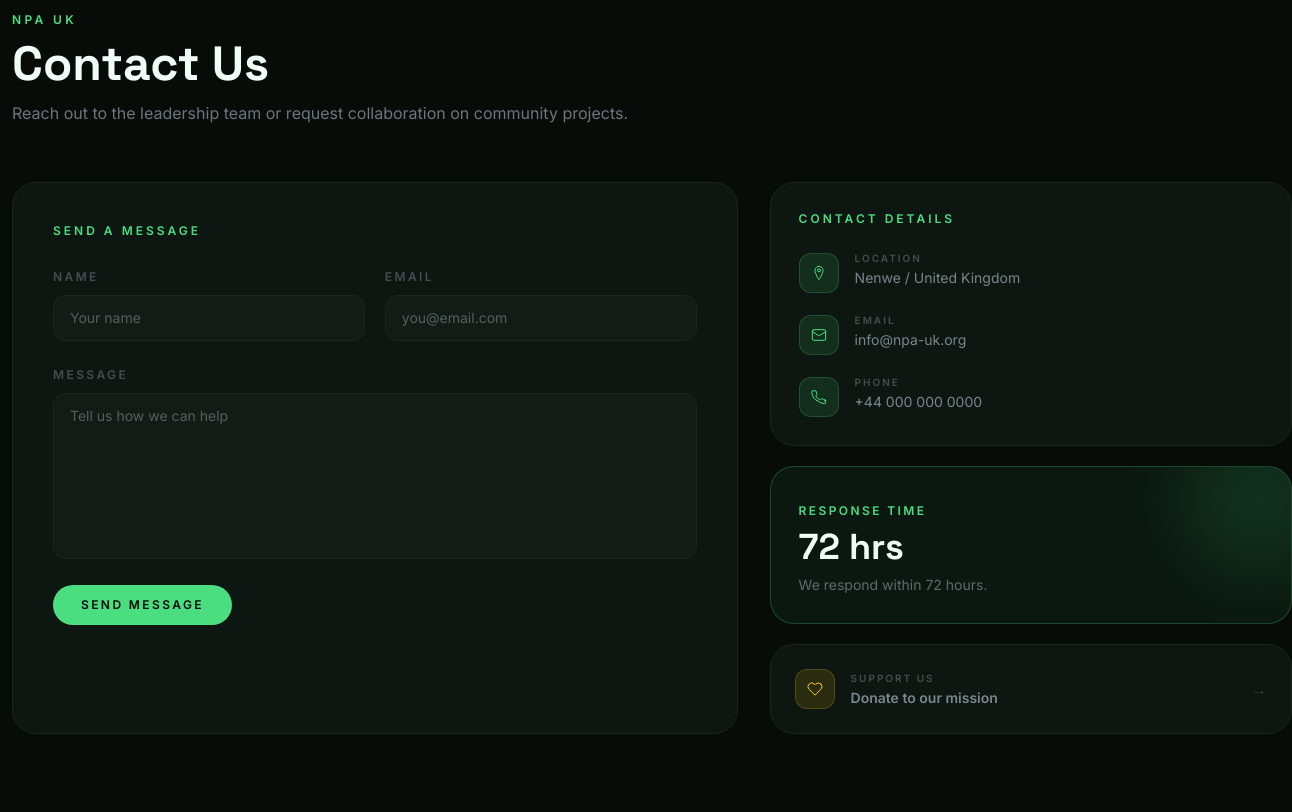
Contact form › shows success message after successful submission
This screenshot has width=1292, height=812.
Type "Chidi Okafor" into the field with placeholder "Your name". click: (209, 318)
box: x1=53 y1=295 x2=365 y2=341
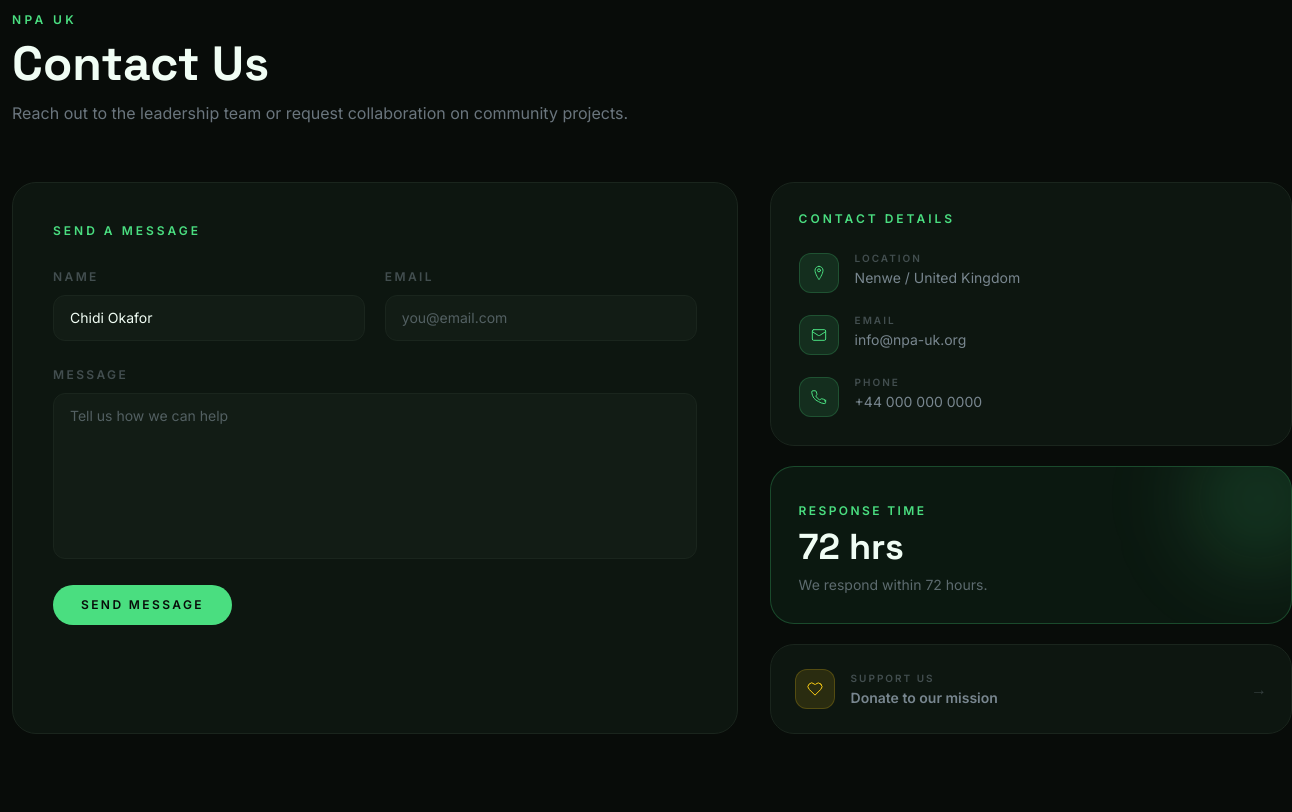
Type "chidi@example.com" into the field with placeholder "you@email.com". click: (541, 318)
box: x1=385 y1=295 x2=697 y2=341
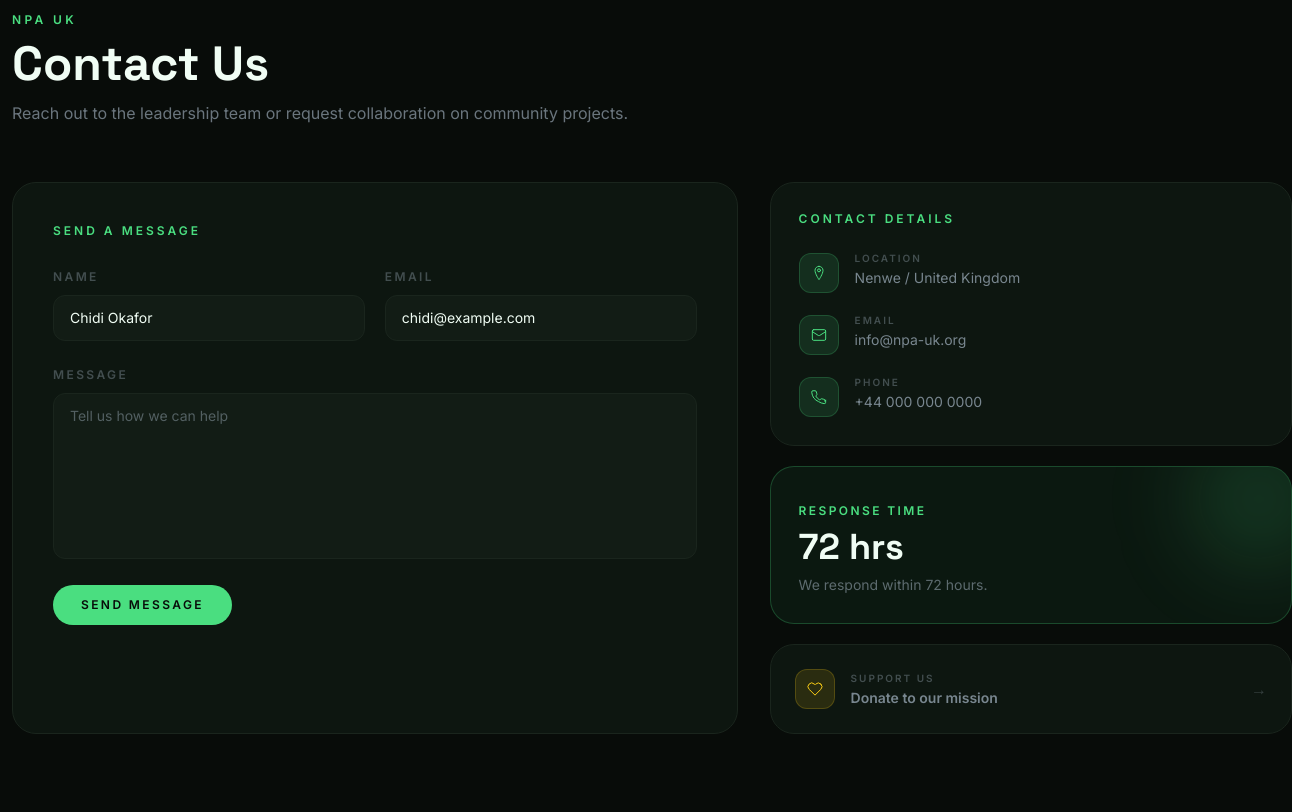
Type "Hello from Nenwe." into the text box with placeholder "Tell us how we can help". click: (375, 476)
box: x1=53 y1=393 x2=697 y2=559
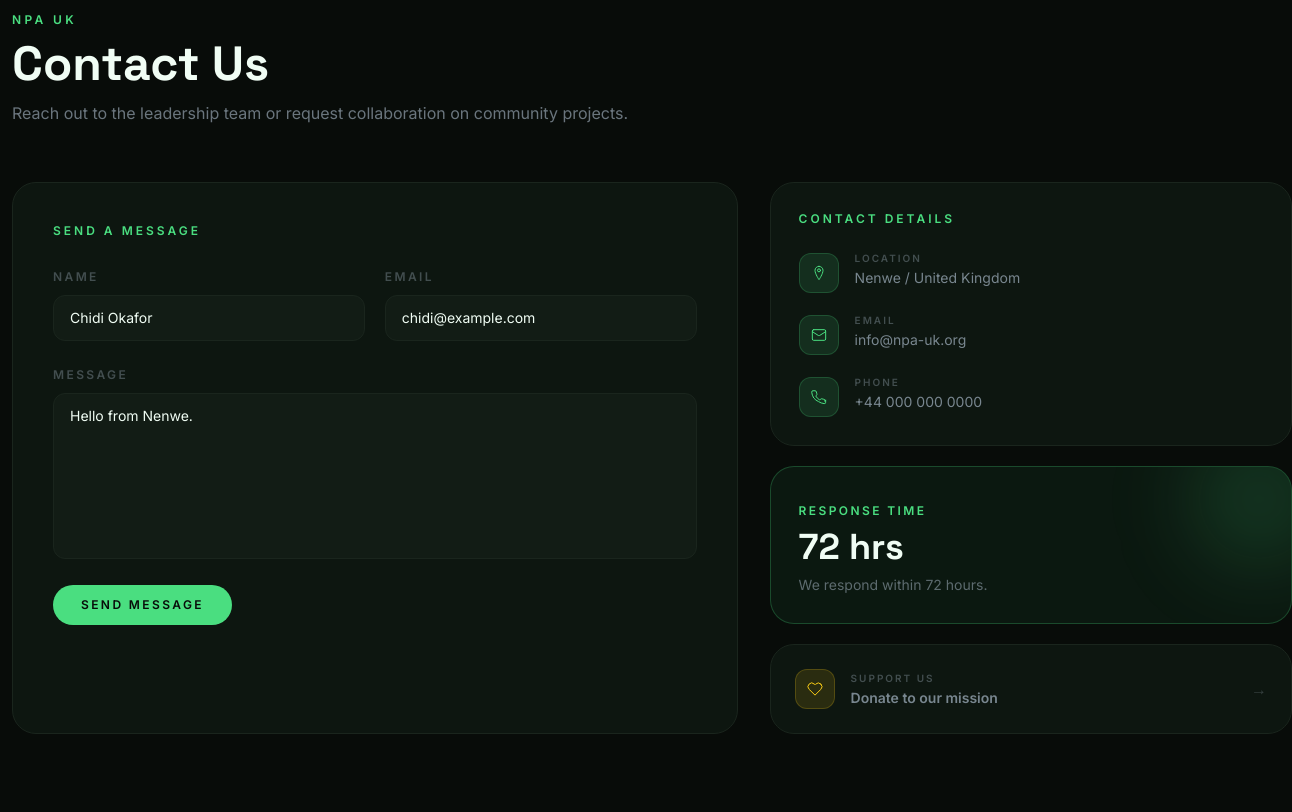
Click the button "Send Message". click: (142, 605)
box: x1=53 y1=585 x2=232 y2=625
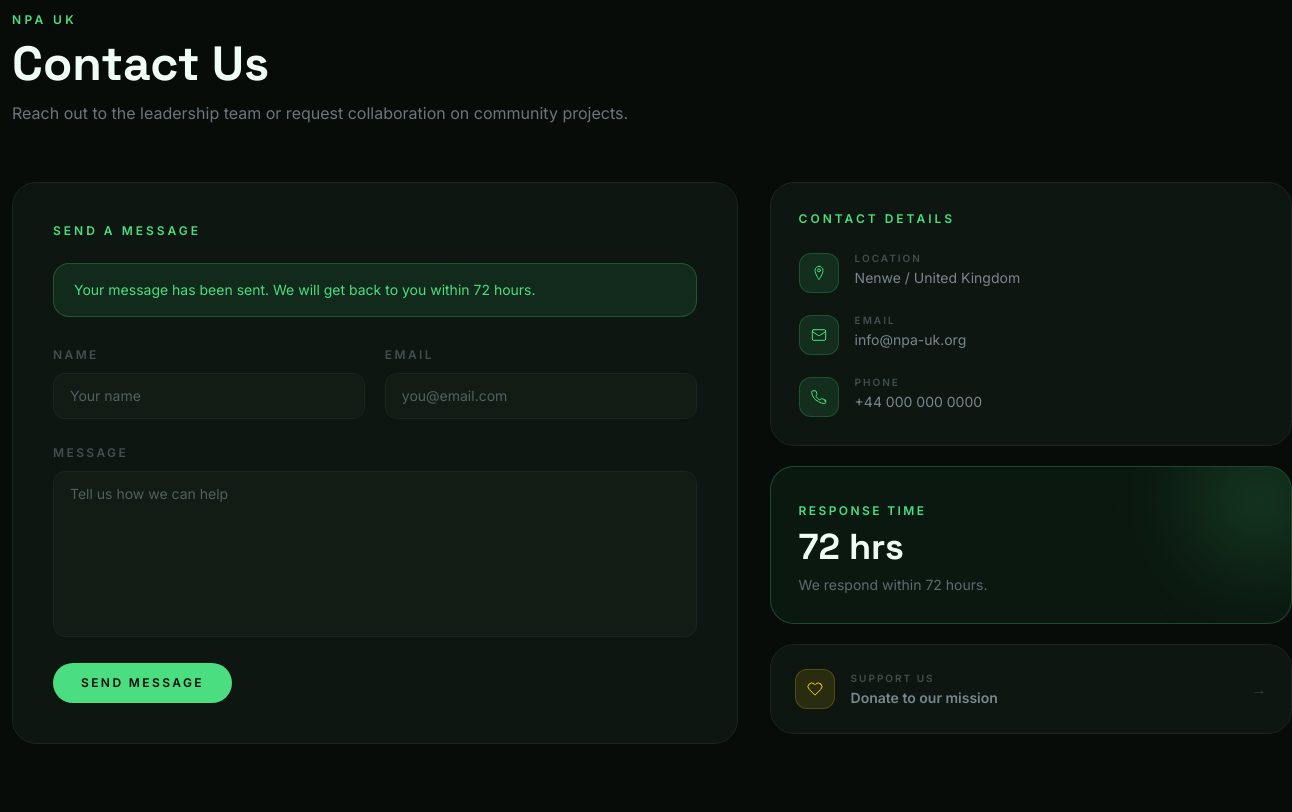
Result: the text "Your message has been sent" is shown at x1=74 y1=281 x2=536 y2=298
